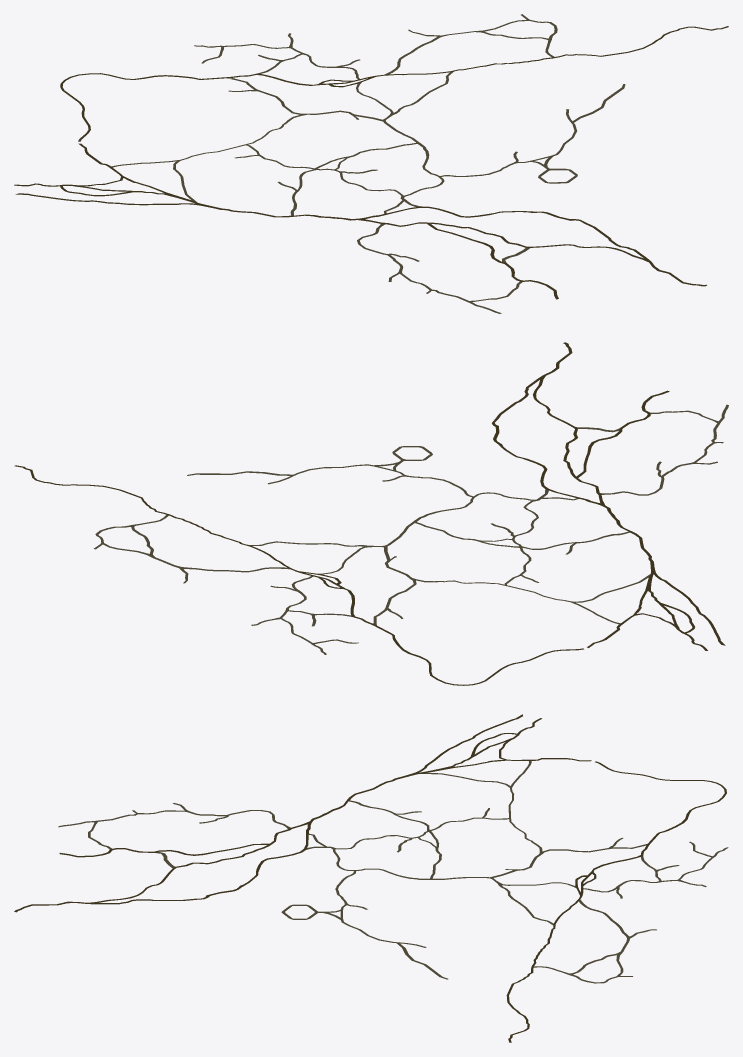
File: Low_Poly_Roads.fbx
The picture shows the model from 3 angles, top to bottom: view 1: azimuth 30°, elevation 25°; view 2: azimuth 150°, elevation 25°; view 3: azimuth 270°, elevation 25°; orthographic projection. The views are drawn at different scales.
Visible parts, largest first — view 1: Prijatelstvo_E_75_1, Goce_Delchev_A4, Kojlija_SD, R1102_1; view 2: Prijatelstvo_E_75_1, Goce_Delchev_A4, Kojlija_SD, R1102_1; view 3: Prijatelstvo_E_75_1, Goce_Delchev_A4, Kojlija_SD, R1102_1.
Part boxes in pixels (left/top/right/bottom): Prijatelstvo_E_75_1: left=14, top=143, right=706, bottom=299; Goce_Delchev_A4: left=143, top=26, right=728, bottom=87; Kojlija_SD: left=175, top=115, right=405, bottom=215; R1102_1: left=357, top=224, right=522, bottom=313; Prijatelstvo_E_75_1: left=492, top=342, right=725, bottom=650; Goce_Delchev_A4: left=14, top=465, right=419, bottom=657; Kojlija_SD: left=416, top=498, right=629, bottom=603; R1102_1: left=600, top=404, right=728, bottom=495; Prijatelstvo_E_75_1: left=14, top=714, right=591, bottom=912; Goce_Delchev_A4: left=506, top=814, right=689, bottom=1042; Kojlija_SD: left=327, top=786, right=542, bottom=852; R1102_1: left=58, top=803, right=290, bottom=849.
Bounding box in the file's own units: 163 × 0.0541 × 150.
